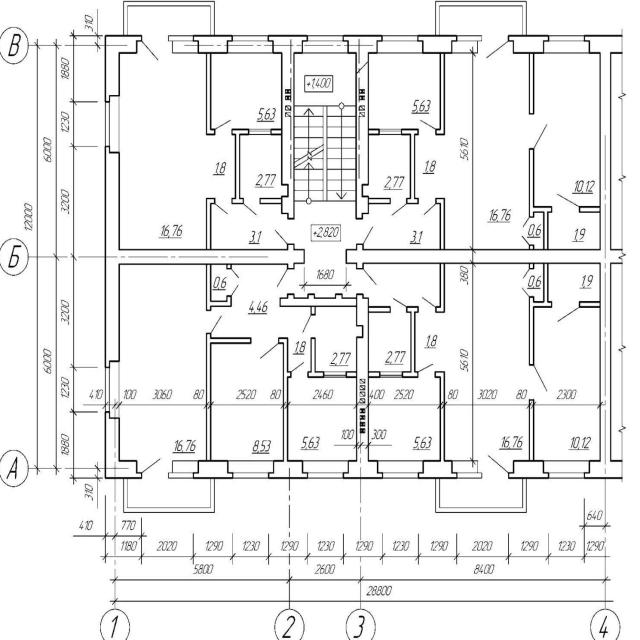Corridors: (120, 53, 234, 249), (416, 263, 529, 460), (415, 54, 529, 248), (211, 264, 311, 372), (363, 204, 440, 249), (212, 204, 288, 248), (363, 263, 440, 306), (315, 306, 362, 371), (240, 135, 288, 197), (363, 136, 409, 197), (440, 479, 522, 508), (128, 479, 209, 508), (369, 313, 410, 370), (440, 6, 522, 34), (128, 6, 210, 33), (294, 263, 356, 297), (549, 264, 600, 301), (549, 213, 600, 249), (211, 265, 226, 300), (535, 213, 543, 250), (535, 264, 543, 300)
Doors: (137, 35, 172, 62), (478, 35, 514, 60), (478, 454, 514, 479), (137, 457, 173, 478), (529, 365, 549, 400), (529, 114, 549, 148), (251, 337, 279, 361), (552, 301, 580, 324), (552, 191, 580, 213), (304, 249, 346, 263), (356, 268, 378, 294), (273, 219, 294, 245), (275, 268, 294, 294), (356, 219, 374, 245), (520, 216, 534, 246), (206, 310, 224, 333), (520, 269, 534, 297), (226, 268, 240, 296), (301, 313, 315, 338), (418, 197, 436, 216), (390, 198, 408, 217), (243, 197, 260, 217), (215, 197, 232, 216), (418, 118, 436, 135), (418, 295, 436, 312), (291, 361, 308, 378), (215, 118, 232, 134), (390, 296, 407, 312), (418, 362, 435, 378)
LBwalls: (345, 34, 628, 479), (104, 146, 305, 368), (267, 34, 308, 220), (342, 34, 383, 219), (104, 411, 143, 479), (104, 34, 142, 102), (356, 294, 369, 461), (192, 34, 234, 55), (508, 459, 549, 479), (508, 34, 549, 54), (417, 34, 457, 54), (192, 460, 234, 479), (417, 460, 458, 479), (342, 460, 383, 479), (268, 460, 308, 479)
Offices: (120, 265, 206, 460), (534, 54, 600, 206), (535, 308, 599, 460), (211, 344, 283, 460), (369, 378, 440, 460), (288, 378, 356, 461), (369, 53, 439, 128), (212, 54, 281, 128)
Stairs: (294, 53, 356, 205), (295, 205, 356, 248)
Walls: (206, 332, 252, 461), (123, 478, 215, 513), (435, 478, 527, 513), (123, 1, 215, 35), (435, 1, 527, 35), (529, 263, 553, 366), (529, 148, 553, 250), (279, 337, 292, 461), (401, 128, 419, 204), (231, 128, 249, 204), (402, 305, 419, 378), (206, 265, 232, 312), (279, 293, 357, 307), (434, 371, 445, 461), (206, 53, 216, 136), (435, 53, 445, 135), (307, 337, 325, 378), (435, 197, 445, 249), (206, 197, 215, 250), (436, 263, 445, 313), (529, 53, 535, 115), (529, 399, 535, 461), (259, 197, 281, 204), (369, 306, 391, 313), (579, 206, 600, 213), (579, 301, 599, 308), (369, 198, 390, 204), (270, 128, 281, 135), (369, 371, 380, 378), (369, 129, 379, 136), (346, 371, 356, 378), (311, 306, 316, 315), (529, 263, 534, 270), (226, 264, 232, 269), (529, 245, 534, 249)
Windows: (378, 460, 424, 479), (378, 35, 423, 54), (105, 362, 120, 418), (105, 96, 120, 152), (228, 460, 274, 478), (302, 461, 348, 479), (544, 460, 590, 478), (302, 35, 348, 53), (228, 35, 273, 53), (544, 35, 589, 53), (452, 460, 482, 479), (168, 35, 198, 54), (168, 460, 199, 478), (452, 35, 482, 53), (380, 371, 403, 378), (324, 371, 346, 377), (249, 129, 271, 135), (379, 129, 401, 135)
